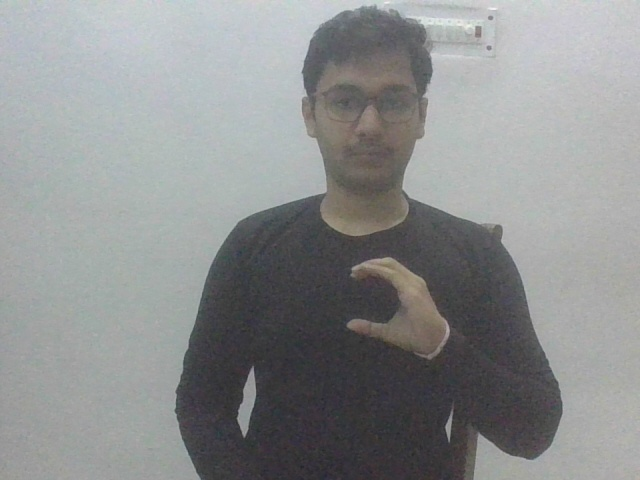C: (344, 247, 449, 360)
